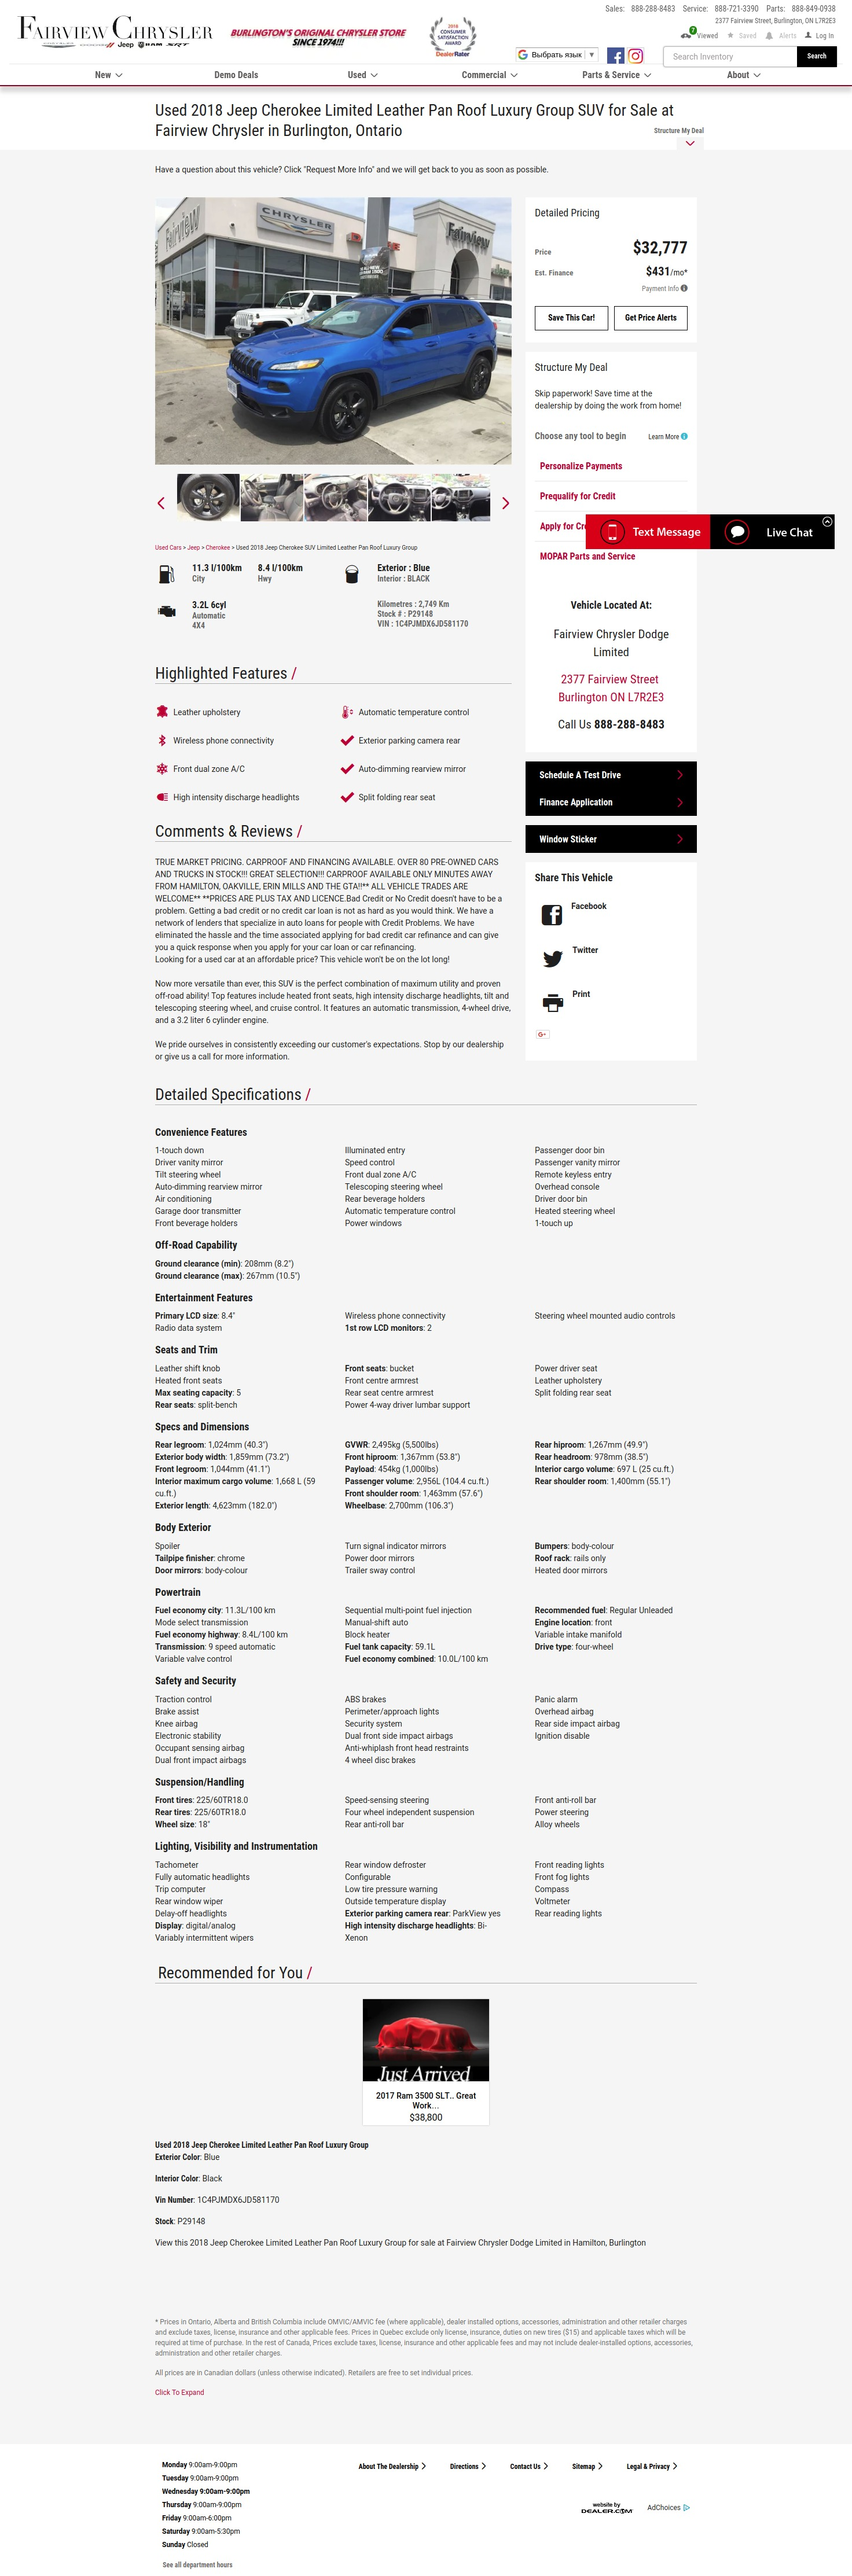car: (502, 498, 510, 511)
